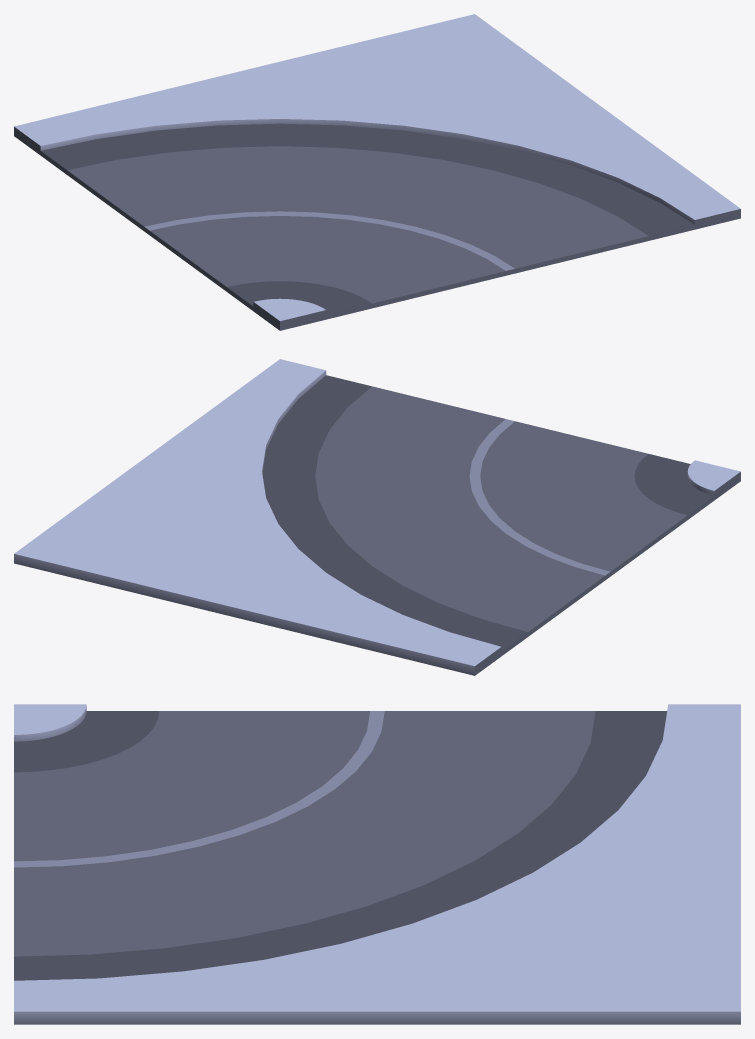
The model's file is road-bend-sidewalk.fbx.
3 views of the same model, one above another, from view 1: azimuth 30°, elevation 25°; view 2: azimuth 150°, elevation 25°; view 3: azimuth 270°, elevation 25° (orthographic). The views are drawn at different scales.
Visible parts, largest first — view 1: road-bend-sidewalk; view 2: road-bend-sidewalk; view 3: road-bend-sidewalk.
Part boxes in pixels (x1,y1,x2,y2): road-bend-sidewalk: (14, 14, 740, 330); road-bend-sidewalk: (14, 359, 740, 675); road-bend-sidewalk: (14, 704, 740, 1024).
Bounding box in the file's own units: 100 × 2 × 100.
